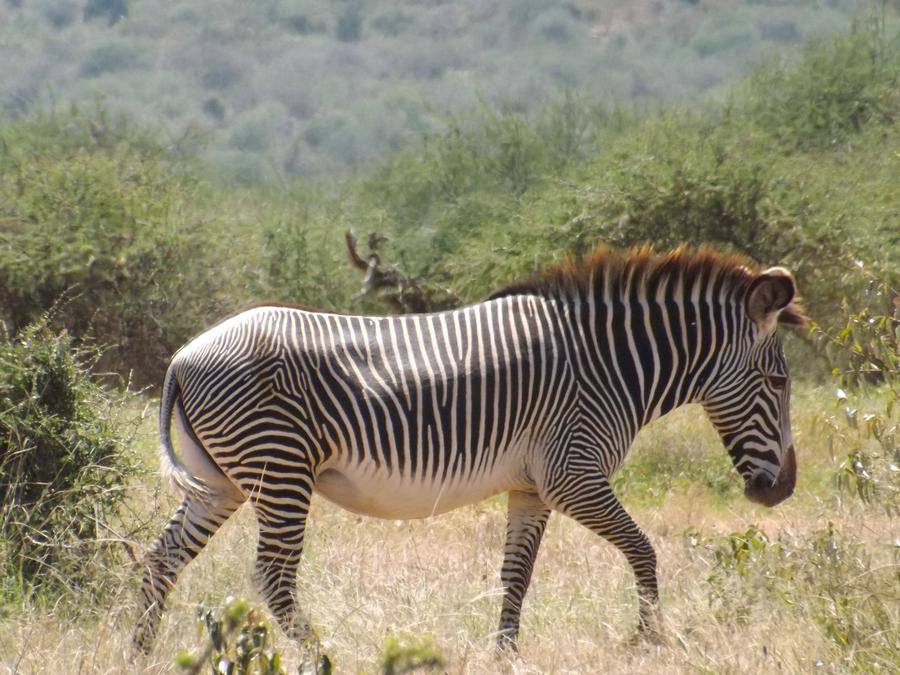zebra_grevys: (152, 305, 613, 485)
